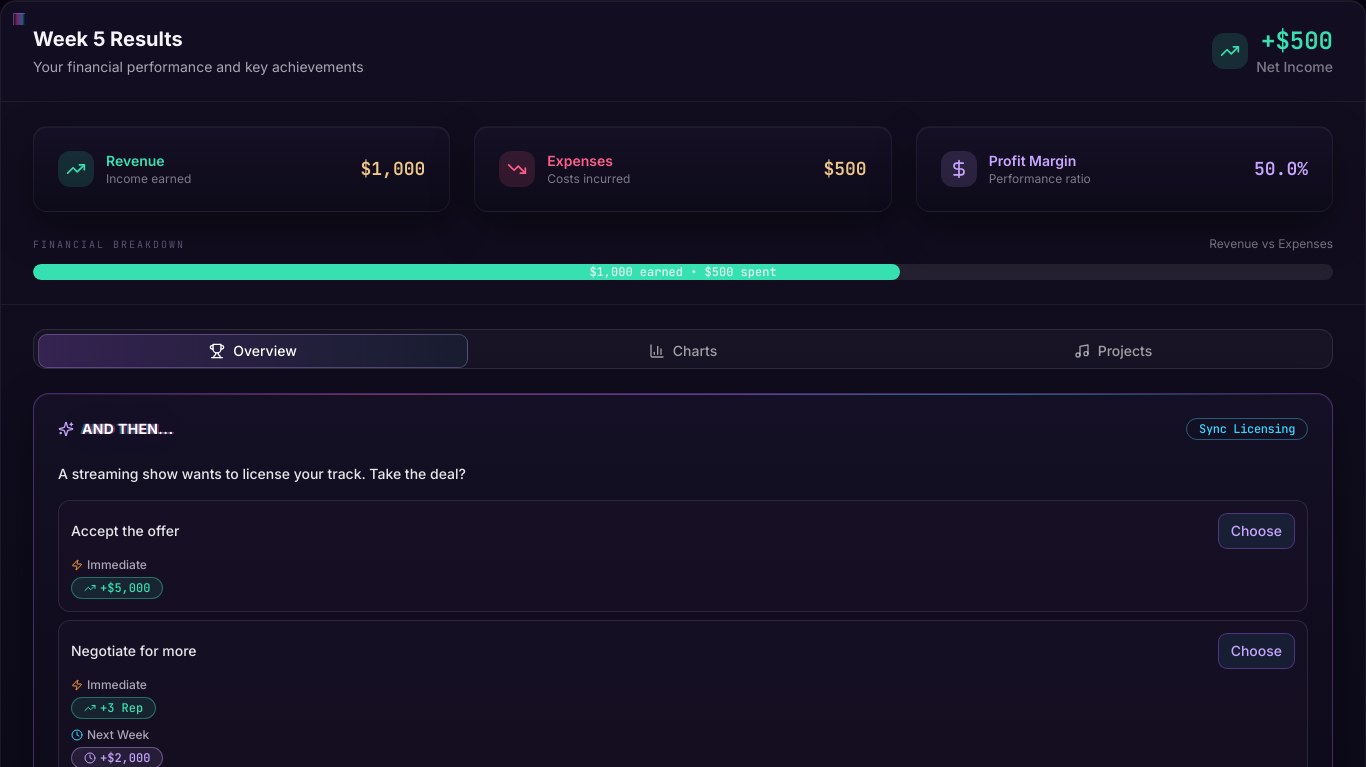
WeekSummary side-event beat › shows the quiet "moment passed" state on a 409 (already resolved/lapsed)
Click the button "Choose" in the row of "Accept the offer" at x=1256, y=531, box 1218,513 -> 1295,549
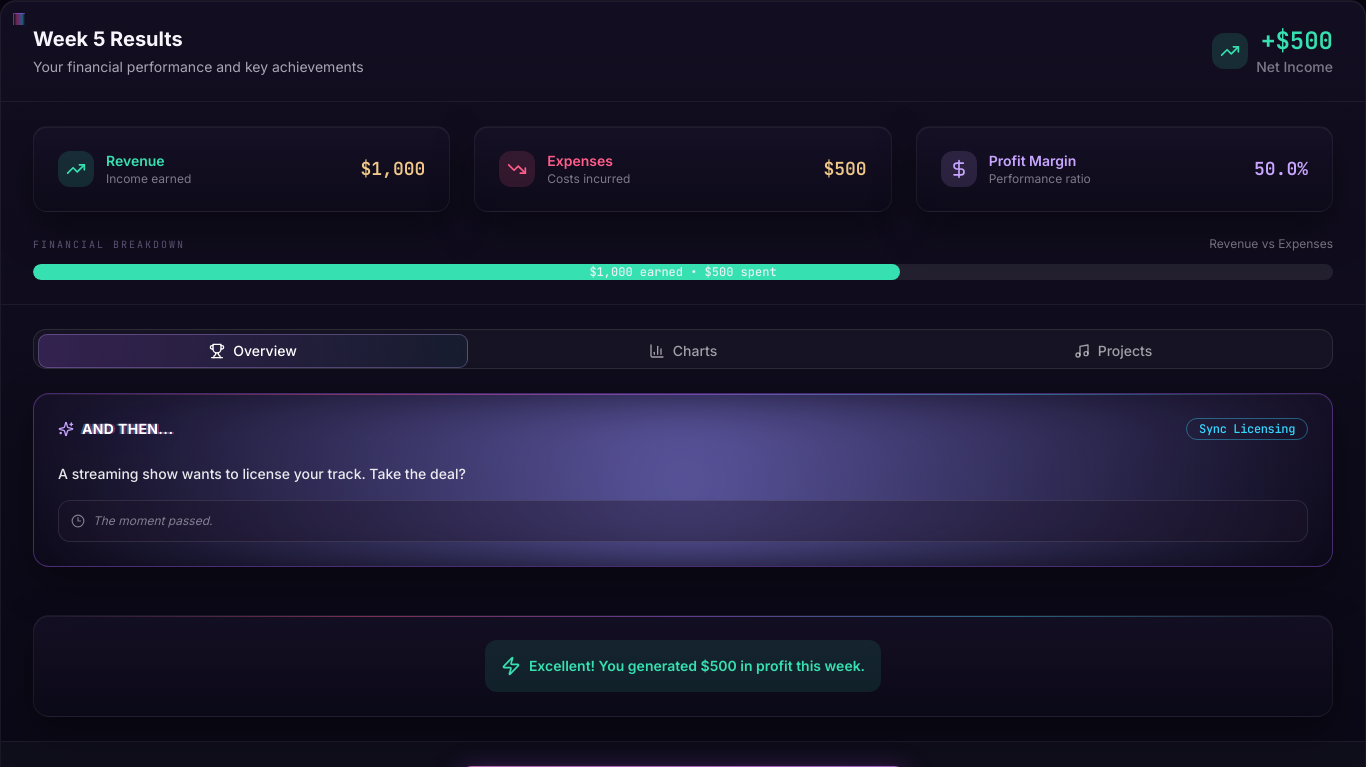
Expected: the text "The moment passed." is shown, 93,513 -> 212,529
